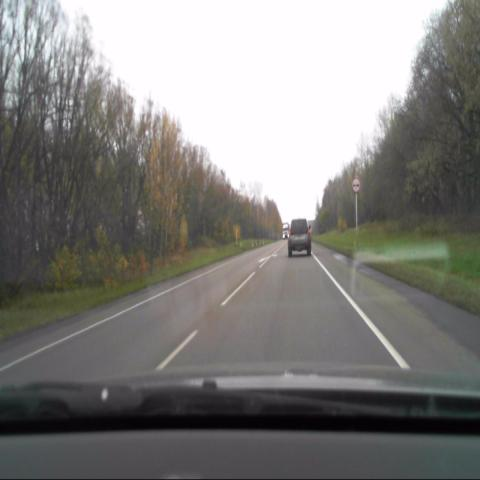3_20: (352, 177, 360, 193)
